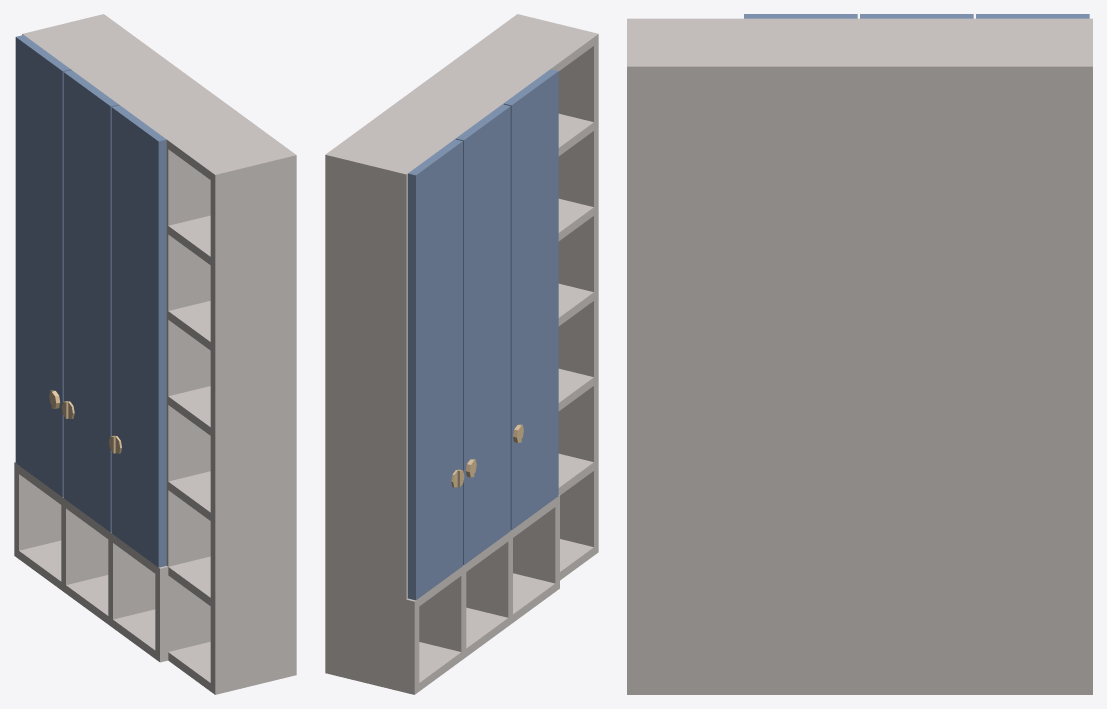
File: Furn6_chest_color1_joined.fbx
3 renders of one model, left to right at view 1: azimuth 30°, elevation 25°; view 2: azimuth 150°, elevation 25°; view 3: azimuth 270°, elevation 25°, orthographic. The views are drawn at different scales.
Visible parts, largest first — view 1: Plane.070; view 2: Plane.070; view 3: Plane.070.
Boxes of the visible parts, box(x1,y1,x2,y2) form: Plane.070: box(14, 14, 296, 694); Plane.070: box(325, 14, 598, 694); Plane.070: box(627, 14, 1092, 694).
Bounding box in the file's own units: 92.59 × 491 × 330.
